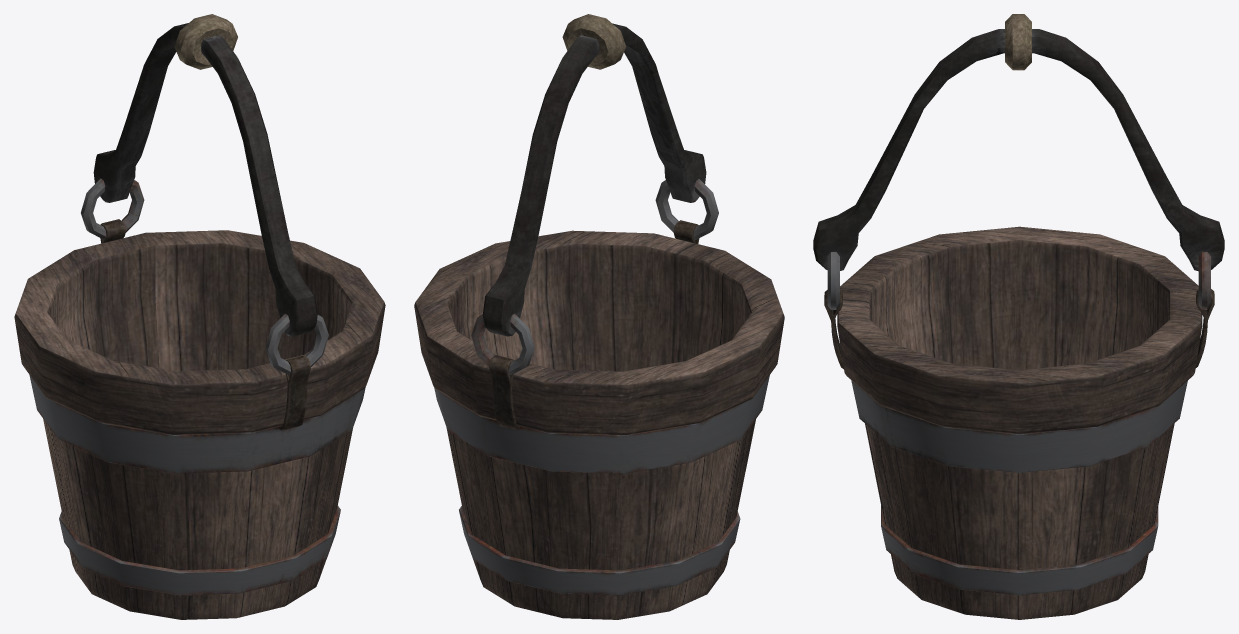
The model's file is Bucket_LP.glb.
3 views of the same model, side by side, from view 1: azimuth 30°, elevation 25°; view 2: azimuth 150°, elevation 25°; view 3: azimuth 270°, elevation 25° (orthographic).
Parts seen in each view (by area): view 1: Bucket_LP; view 2: Bucket_LP; view 3: Bucket_LP.
Part boxes in pixels (x1=…): Bucket_LP: x1=14, y1=14, x2=385, y2=619; Bucket_LP: x1=414, y1=14, x2=784, y2=619; Bucket_LP: x1=813, y1=14, x2=1224, y2=619.
Size of the model in its own units: 0.3534 by 0.5756 by 0.3884.
1 material, 1 textured.
